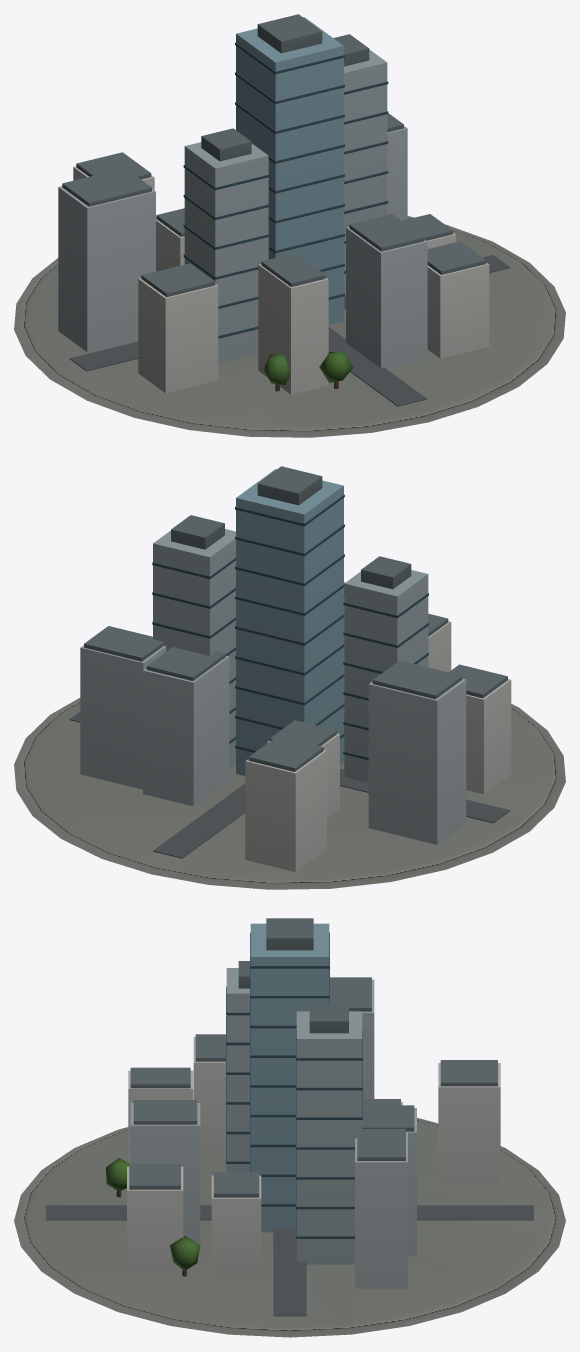
Rendered from settlement_0_6.glb.
3 renders of one model, top to bottom at view 1: azimuth 30°, elevation 25°; view 2: azimuth 150°, elevation 25°; view 3: azimuth 270°, elevation 25°, orthographic.
Visible parts, largest first — view 1: part_0; view 2: part_0; view 3: part_0.
Boxes of the visible parts, <box> form: part_0: <box>14,14,565,437</box>; part_0: <box>14,466,565,889</box>; part_0: <box>14,918,565,1337</box>.
Size of the model in its own units: 32.8 by 19.17 by 32.8.
